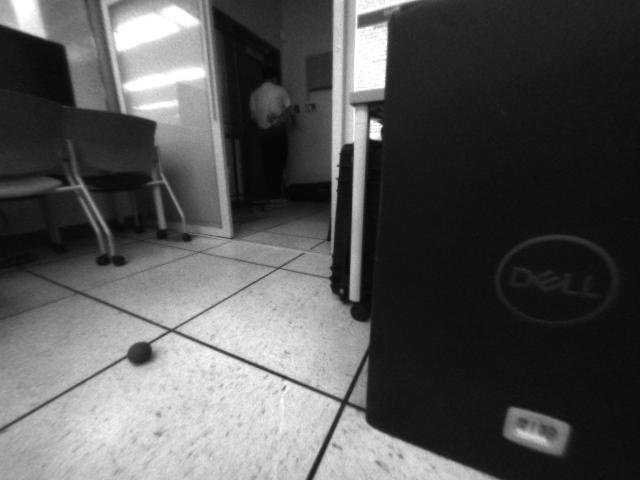dogtoy: (119, 333, 161, 374)
